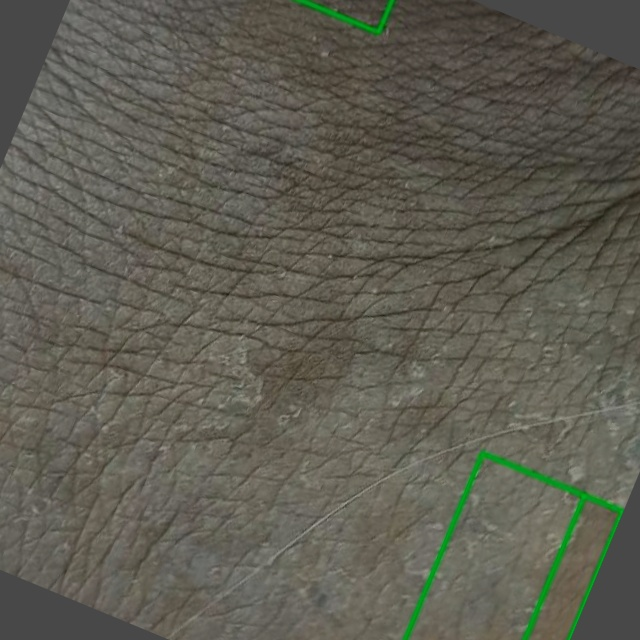Eczema: (524, 495, 622, 639)
